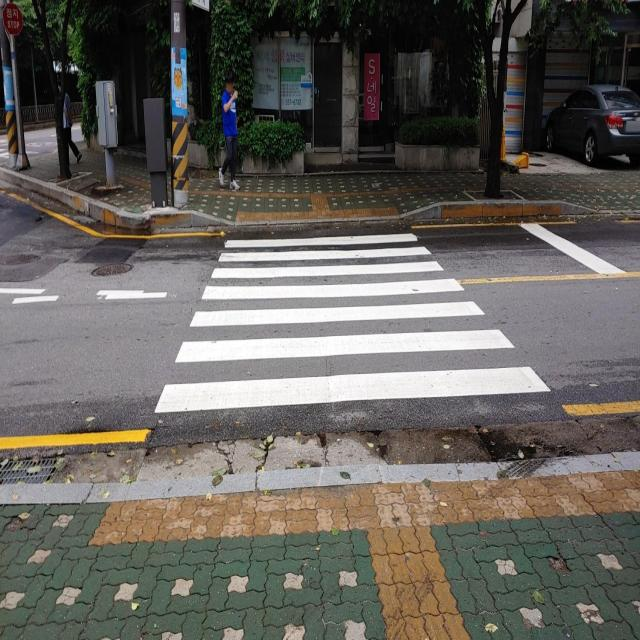횡단보도: (152, 228, 552, 417)
